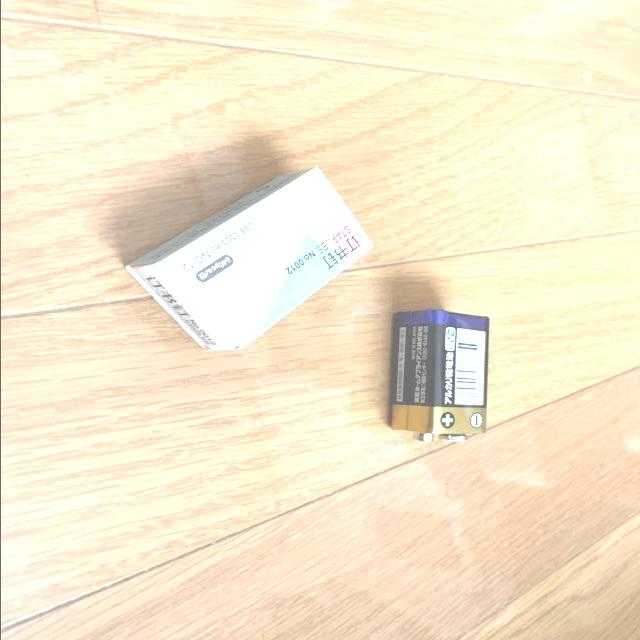9V: (388, 308, 490, 443)
